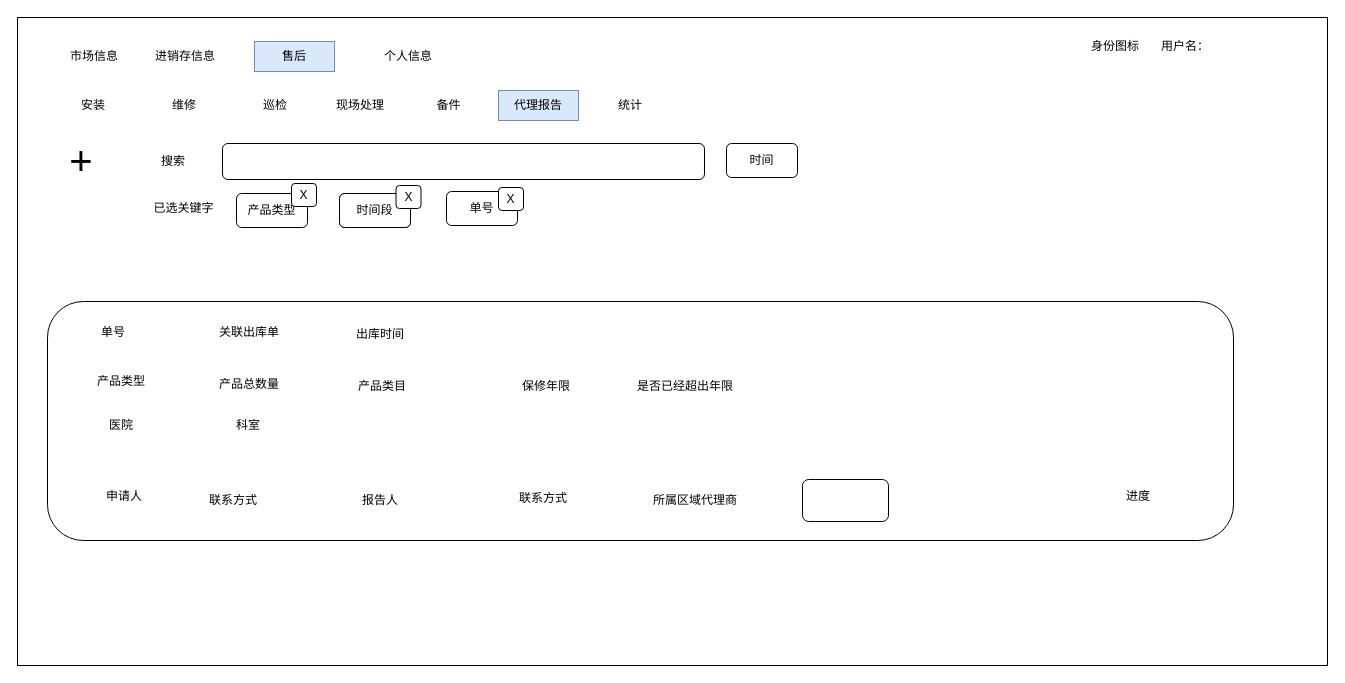
This 1345x683 diagram has some shape labels left out. Each missing label, with the centre of its shape:
上传报告文件: the point at 845,500
单号+医院+科室+安装人+申请人: the point at 463,161
